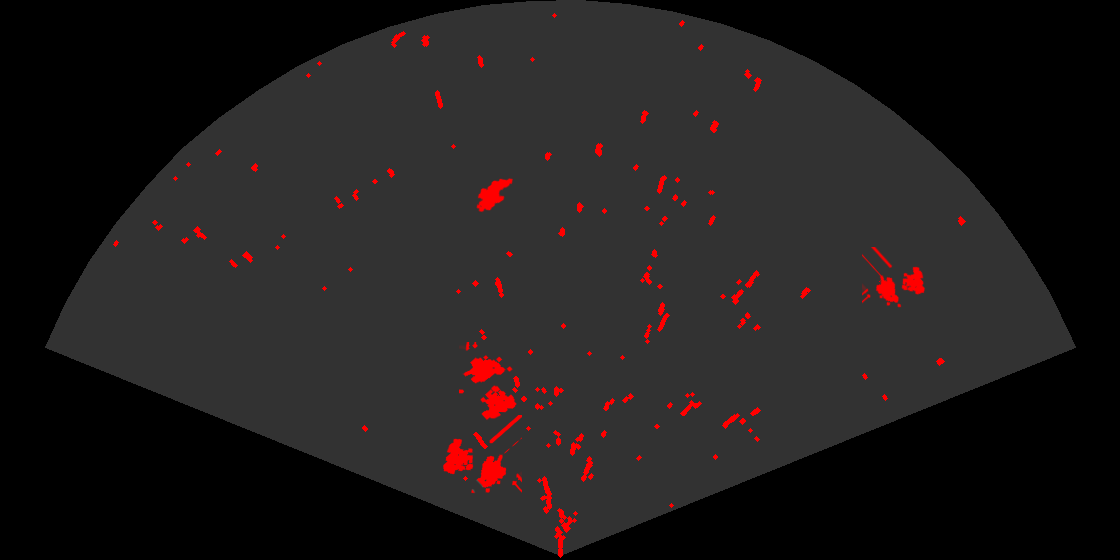AUV: (475, 176, 515, 214)
cage: (441, 415, 522, 495), (459, 342, 518, 422), (862, 247, 927, 309)
